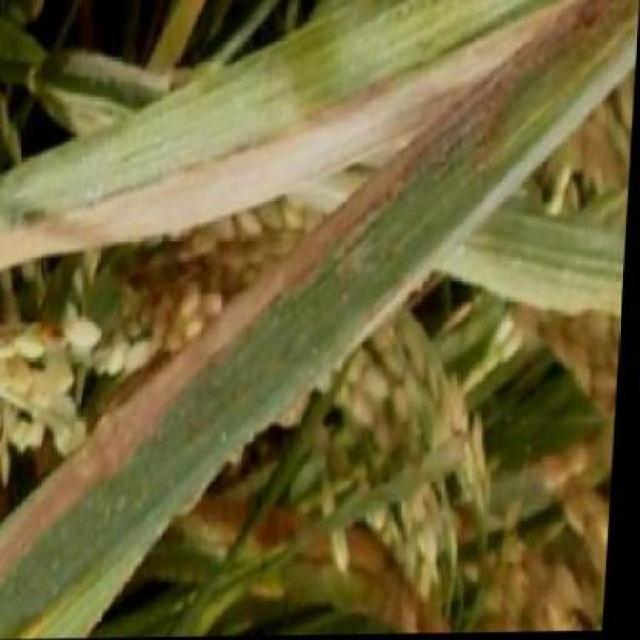Brown_Spot: (3, 1, 628, 628), (2, 397, 280, 640), (153, 1, 522, 161)
